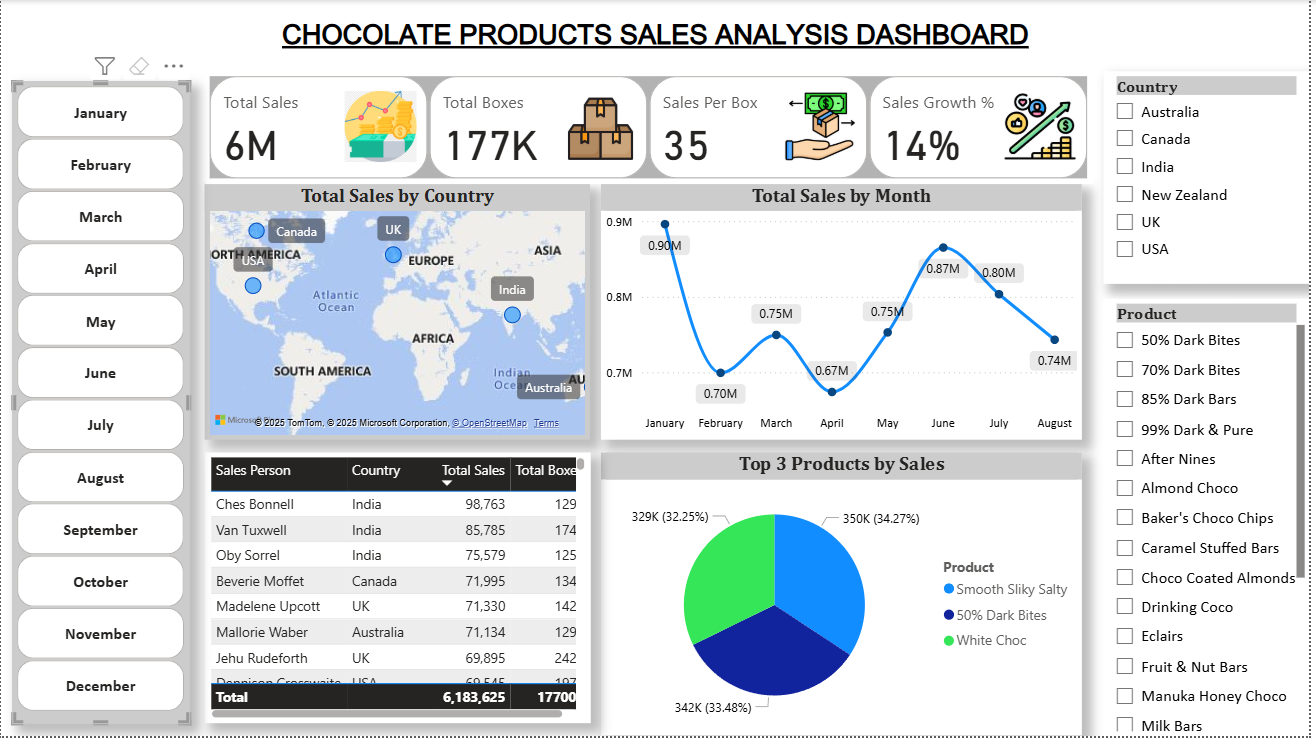

The page's visual inventory and layout, read from the dashboard file:
{"tool":"powerbi","page":{"name":"Page 1","canvas":[1280,720],"ordinal":0},"visuals":[{"type":"map","fields":{"Category":["Chocolate Sales.Country"],"Size":["Chocolate Sales.Total Sales"]},"box":[199,219.6,377.4,211.3],"z":0},{"type":"lineChart","fields":{"Y":["Chocolate Sales.Total Sales"],"Category":["Chocolate Sales.Date.Variation.Date Hierarchy.Month"]},"box":[587.3,219.6,470.7,211.3],"z":1000},{"type":"pieChart","title":"Top 3 Products by Sales","fields":{"Y":["Chocolate Sales.Total Sales"],"Category":["Chocolate Sales.Product"]},"box":[587.3,443.2,470.7,277.2],"z":2000},{"type":"tableEx","fields":{"Values":["Chocolate Sales.Sales Person","Chocolate Sales.Country","Chocolate Sales.Total Sales","Chocolate Sales.Total Boxes"]},"box":[199,443.2,377.4,264.8],"z":3000},{"type":"cardVisual","fields":{"Data":["Chocolate Sales.Total Sales","Chocolate Sales.Total Boxes","Chocolate Sales.Sales Per Box","Chocolate Sales.Sales Growth %"]},"box":[199,101.5,870,98.8],"z":4000},{"type":"textbox","box":[0,46.7,1280.3,54.9],"z":5000},{"type":"slicer","fields":{"Values":["Chocolate Sales.Country"]},"box":[1078.6,101.5,201.7,196.2],"z":7000},{"type":"slicer","fields":{"Values":["Chocolate Sales.Product"]},"box":[1078.6,299.1,201.7,408.9],"z":8000},{"type":"advancedSlicerVisual","fields":{"Values":["Chocolate Sales.Date.Variation.Date Hierarchy.Month"]},"box":[11,111.1,174.3,596.9],"z":9000}]}

Visuals, with their boxes in screenshot pixels (x1, y1, x2, y2), scaled from the page's 1280x720 canvas onto the 1316x740 screenshot:
map - Chocolate Sales.Country x Chocolate Sales.Total Sales: <region>205, 226, 593, 443</region>
lineChart - Chocolate Sales.Total Sales x Chocolate Sales.Date.Variation.Date Hierarchy.Month: <region>604, 226, 1088, 443</region>
"Top 3 Products by Sales" pieChart: <region>604, 456, 1088, 739</region>
tableEx - Chocolate Sales.Sales Person x Chocolate Sales.Country: <region>205, 456, 593, 728</region>
cardVisual - Chocolate Sales.Total Sales x Chocolate Sales.Total Boxes: <region>205, 104, 1099, 206</region>
textbox: <region>0, 48, 1315, 104</region>
slicer - Chocolate Sales.Country: <region>1109, 104, 1315, 306</region>
slicer - Chocolate Sales.Product: <region>1109, 307, 1315, 728</region>
advancedSlicerVisual - Chocolate Sales.Date.Variation.Date Hierarchy.Month: <region>11, 114, 191, 728</region>
